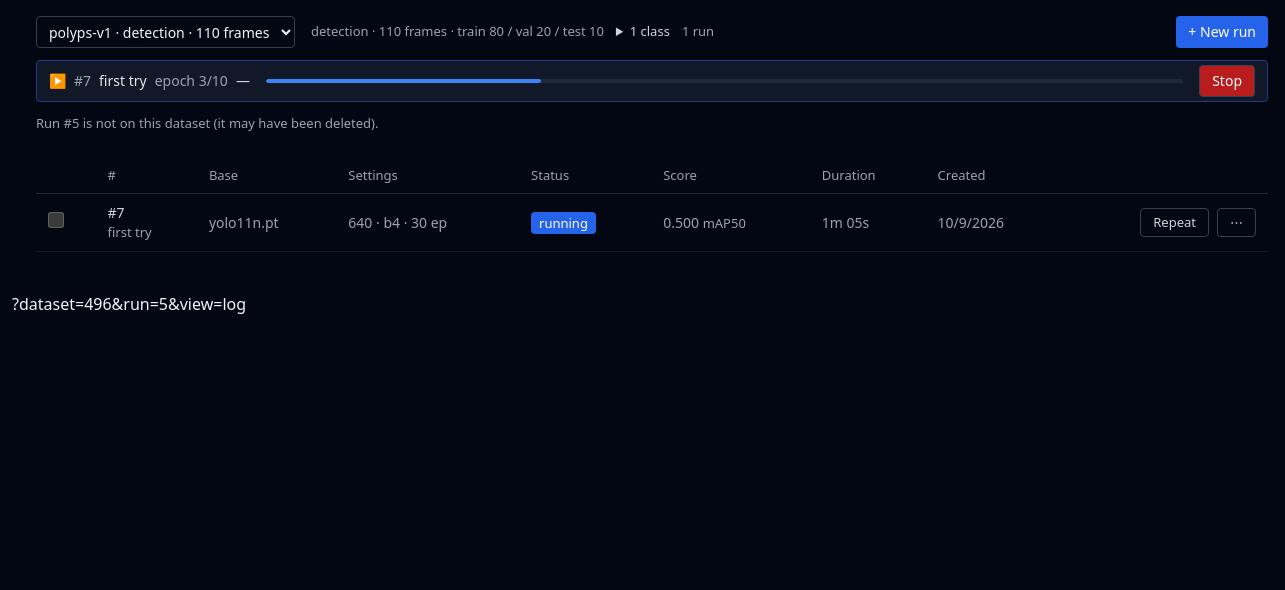
TrainPage › live details › opening the active run from the strip resets the view to overview
Expected: the table is shown, top-left (36, 158), bottom-right (1268, 252)
Click the button with aria-label "Open run 7": (149, 81) top-left (49, 71), bottom-right (250, 91)
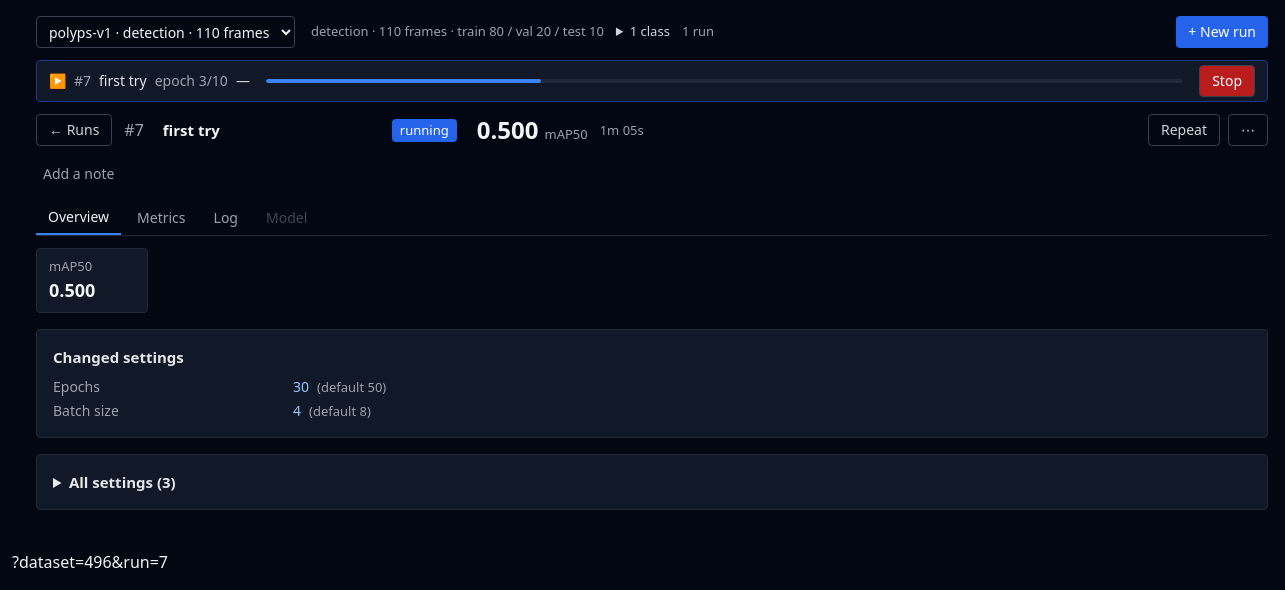
Now the text with test id "where" reads "?dataset=496&run=7", box top-left (12, 551), bottom-right (168, 573)
